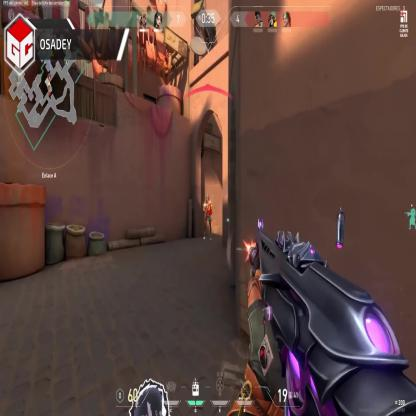enemy: (202, 193, 212, 240)
enemy_head: (206, 193, 209, 202)
